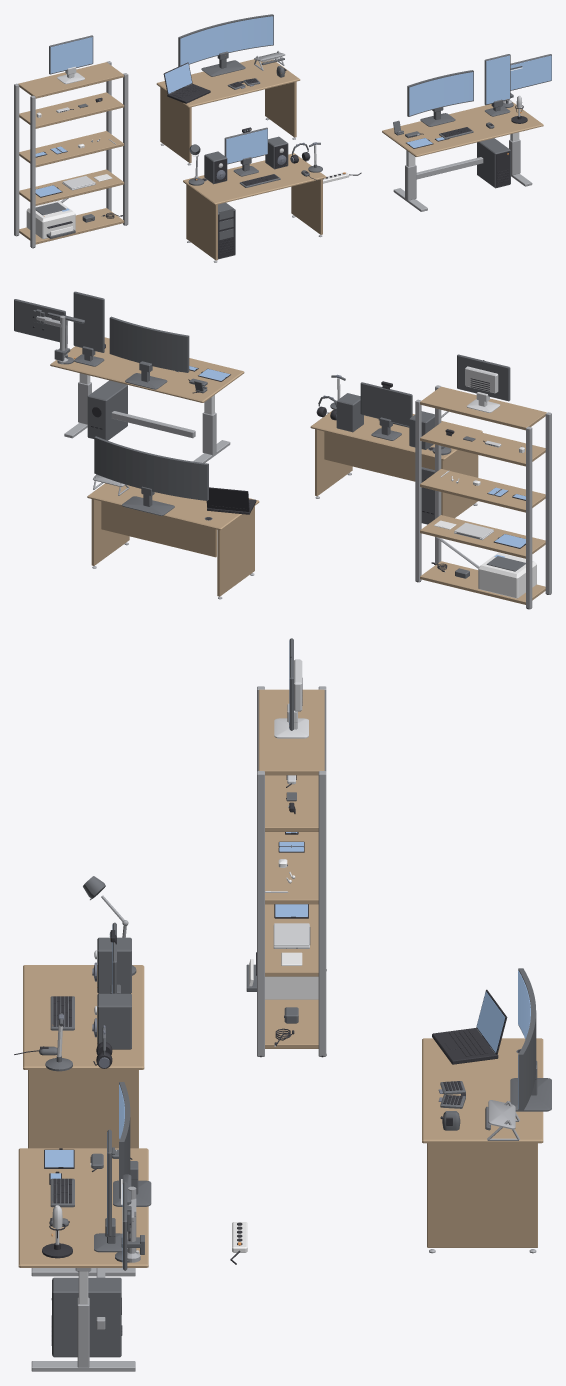
The model's file is studio-workshop.glb.
3 views of the same model, one above another, from view 1: azimuth 30°, elevation 25°; view 2: azimuth 150°, elevation 25°; view 3: azimuth 270°, elevation 25° (orthographic). The views are drawn at different scales.
Visible parts, largest first — view 1: 032-shelf-4-tier/2, 000-desk-1400/0, 023-desk-1400/0, 010-desk-1600-sitstand/0, 032-shelf-4-tier/0, 024-monitor-49-superwide/1, 011-monitor-34-curved/1, 010-desk-1600-sitstand/1, 048-all-in-one-24/2, 033-printer-laser-mono/0, 022-monitor-24-flat-wallmount/1, 001-monitor-24-flat/1 (+14 smaller); view 2: 032-shelf-4-tier/2, 023-desk-1400/0, 000-desk-1400/0, 024-monitor-49-superwide/0, 032-shelf-4-tier/0, 011-monitor-34-curved/0, 010-desk-1600-sitstand/0, 010-desk-1600-sitstand/1, 001-monitor-24-flat/0, 012-monitor-24-portrait/0, 030-desktop-tower-compact/0, 033-printer-laser-mono/0 (+9 smaller); view 3: 023-desk-1400/0, 000-desk-1400/0, 032-shelf-4-tier/2, 010-desk-1600-sitstand/0, 032-shelf-4-tier/0, 030-desktop-tower-compact/0, 010-desk-1600-sitstand/1, 024-monitor-49-superwide/0, 005-speaker-bookshelf/0, 027-laptop-gaming-17/0, 004-speaker-bookshelf/0, 011-monitor-34-curved/0 (+6 smaller).
Boxes of the visible parts, x1,y1,x2,y2 form: 032-shelf-4-tier/2: (18,62,124,244); 000-desk-1400/0: (183,153,326,260); 023-desk-1400/0: (156,59,300,162); 010-desk-1600-sitstand/0: (382,102,543,156); 032-shelf-4-tier/0: (14,61,128,248); 024-monitor-49-superwide/1: (180,16,273,65); 011-monitor-34-curved/1: (409,72,473,115); 010-desk-1600-sitstand/1: (393,139,532,211); 048-all-in-one-24/2: (50,37,92,73); 033-printer-laser-mono/0: (26,201,75,238); 022-monitor-24-flat-wallmount/1: (510,55,551,89); 001-monitor-24-flat/1: (226,129,267,163); 032-shelf-4-tier/2: (420,386,546,604); 023-desk-1400/0: (87,483,259,596); 000-desk-1400/0: (310,409,482,518); 024-monitor-49-superwide/0: (94,436,208,515); 032-shelf-4-tier/0: (415,385,551,609); 011-monitor-34-curved/0: (109,316,189,389); 010-desk-1600-sitstand/0: (50,337,244,402); 010-desk-1600-sitstand/1: (64,382,230,462); 001-monitor-24-flat/0: (360,382,412,440); 012-monitor-24-portrait/0: (73,291,104,366); 030-desktop-tower-compact/0: (87,380,127,440); 033-printer-laser-mono/0: (478,552,536,598); 023-desk-1400/0: (422,1038,543,1247); 000-desk-1400/0: (23,965,144,1148); 032-shelf-4-tier/2: (258,689,324,1048); 010-desk-1600-sitstand/0: (18,1148,148,1267); 032-shelf-4-tier/0: (257,686,326,1056); 030-desktop-tower-compact/0: (52,1277,121,1357); 010-desk-1600-sitstand/1: (31,1268,135,1371); 024-monitor-49-superwide/0: (510,968,551,1111); 005-speaker-bookshelf/0: (97,993,131,1049); 027-laptop-gaming-17/0: (432,989,507,1064); 004-speaker-bookshelf/0: (97,937,131,993); 011-monitor-34-curved/0: (113,1082,151,1206).
Bounding box in the file's own units: 6.05 × 2.27 × 3.1.
